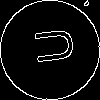U: (25, 25, 75, 67)
